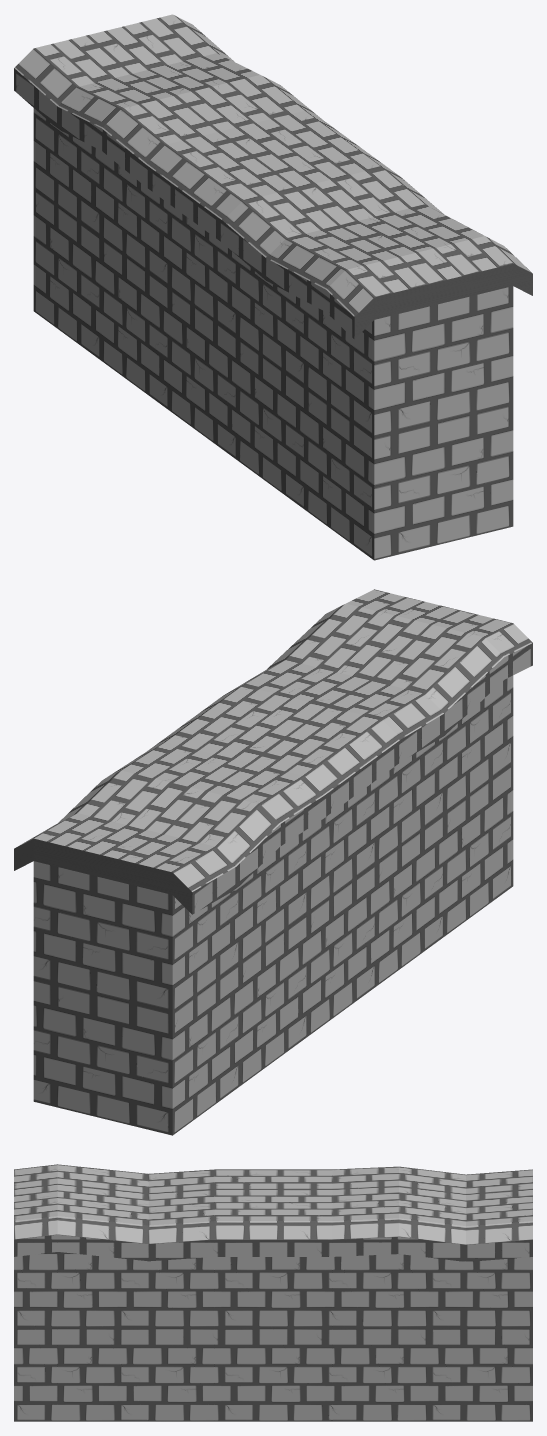
Rendered from FlatConnecting_Wall.fbx.
3 renders of one model, top to bottom at view 1: azimuth 30°, elevation 25°; view 2: azimuth 150°, elevation 25°; view 3: azimuth 270°, elevation 25°, orthographic. The views are drawn at different scales.
Parts seen in each view (by area): view 1: Wall; view 2: Wall; view 3: Wall.
Part boxes in pixels (x1,y1,x2,y2): Wall: (14,14,532,560); Wall: (14,589,532,1135); Wall: (14,1164,532,1421).
Bounding box in the file's own units: 0.4049 × 0.585 × 1.34.
